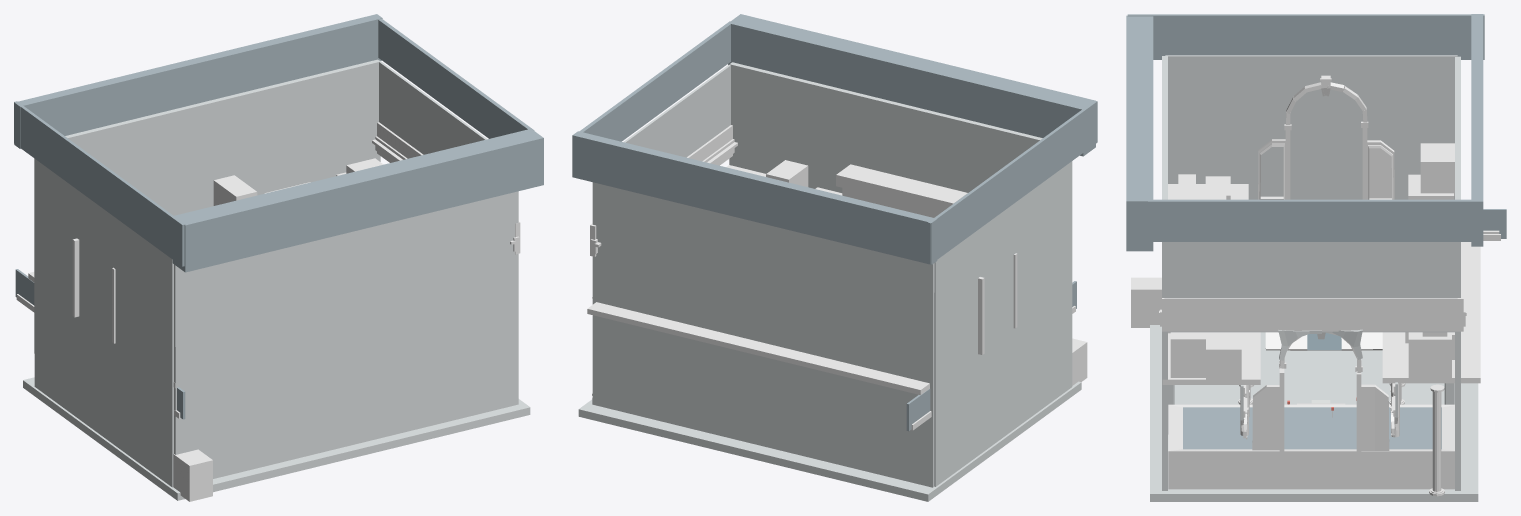
Rendered from museum.glb.
3 views of the same model, side by side, from view 1: azimuth 30°, elevation 25°; view 2: azimuth 150°, elevation 25°; view 3: azimuth 270°, elevation 25° (orthographic). The views are drawn at different scales.
Parts seen in each view (by area): view 1: group853941034, group395243803, group156993652, group1953011220, group1925979723, group689543294, group558278867, group436196863, group793193501, group1582220023, group149663869, group1612683714 (+2 smaller); view 2: group156993652, group395243803, group853941034, group1925979723, group1953011220, group689543294, group558278867, group436196863, group719696710, group793193501, group1152385336, group149663869 (+5 smaller); view 3: group395243803, group1166085555, group793193501, group558278867, group436196863, group689543294, group1676229897, group1953011220, group391671949, group719696710, group149663869, group1925979723 (+16 smaller).
Boxes of the visible parts, x1,y1,x2,y2 form: group853941034: [174, 191, 518, 478]; group395243803: [34, 159, 173, 487]; group156993652: [34, 59, 380, 353]; group1953011220: [172, 129, 543, 272]; group1925979723: [14, 14, 382, 148]; group689543294: [14, 101, 185, 266]; group558278867: [23, 377, 530, 500]; group436196863: [378, 19, 534, 138]; group793193501: [379, 61, 486, 154]; group1582220023: [173, 449, 212, 501]; group149663869: [72, 238, 115, 343]; group1612683714: [213, 175, 257, 205]; group156993652: [592, 182, 934, 487]; group395243803: [934, 161, 1072, 486]; group853941034: [729, 62, 1042, 192]; group1925979723: [572, 131, 937, 264]; group1953011220: [728, 14, 1095, 156]; group689543294: [927, 100, 1097, 264]; group558278867: [578, 381, 1081, 501]; group436196863: [579, 21, 732, 141]; group719696710: [587, 302, 929, 395]; group793193501: [623, 65, 730, 157]; group1152385336: [836, 164, 967, 211]; group149663869: [978, 253, 1017, 354]; group395243803: [1165, 55, 1457, 199]; group1166085555: [1168, 397, 1454, 489]; group793193501: [1164, 242, 1457, 332]; group558278867: [1150, 325, 1478, 501]; group436196863: [1148, 199, 1471, 241]; group689543294: [1127, 14, 1484, 59]; group1676229897: [1162, 296, 1463, 331]; group1953011220: [1126, 15, 1153, 251]; group391671949: [1252, 332, 1389, 454]; group719696710: [1382, 242, 1480, 383]; group149663869: [1258, 75, 1394, 199]; group1925979723: [1471, 14, 1483, 246].
Size of the model in its own units: 9.61 by 7.19 by 8.2.
